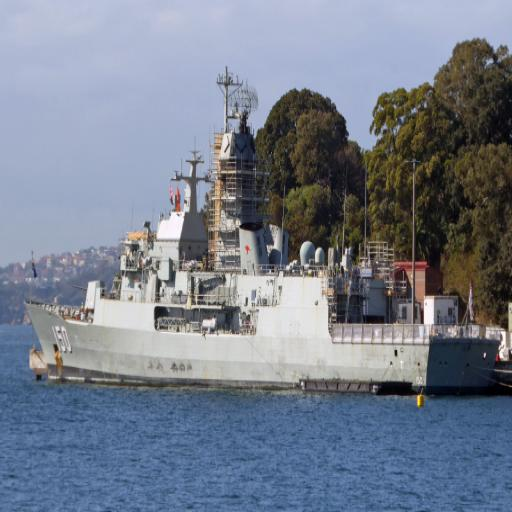Fragata: (21, 61, 506, 389)
